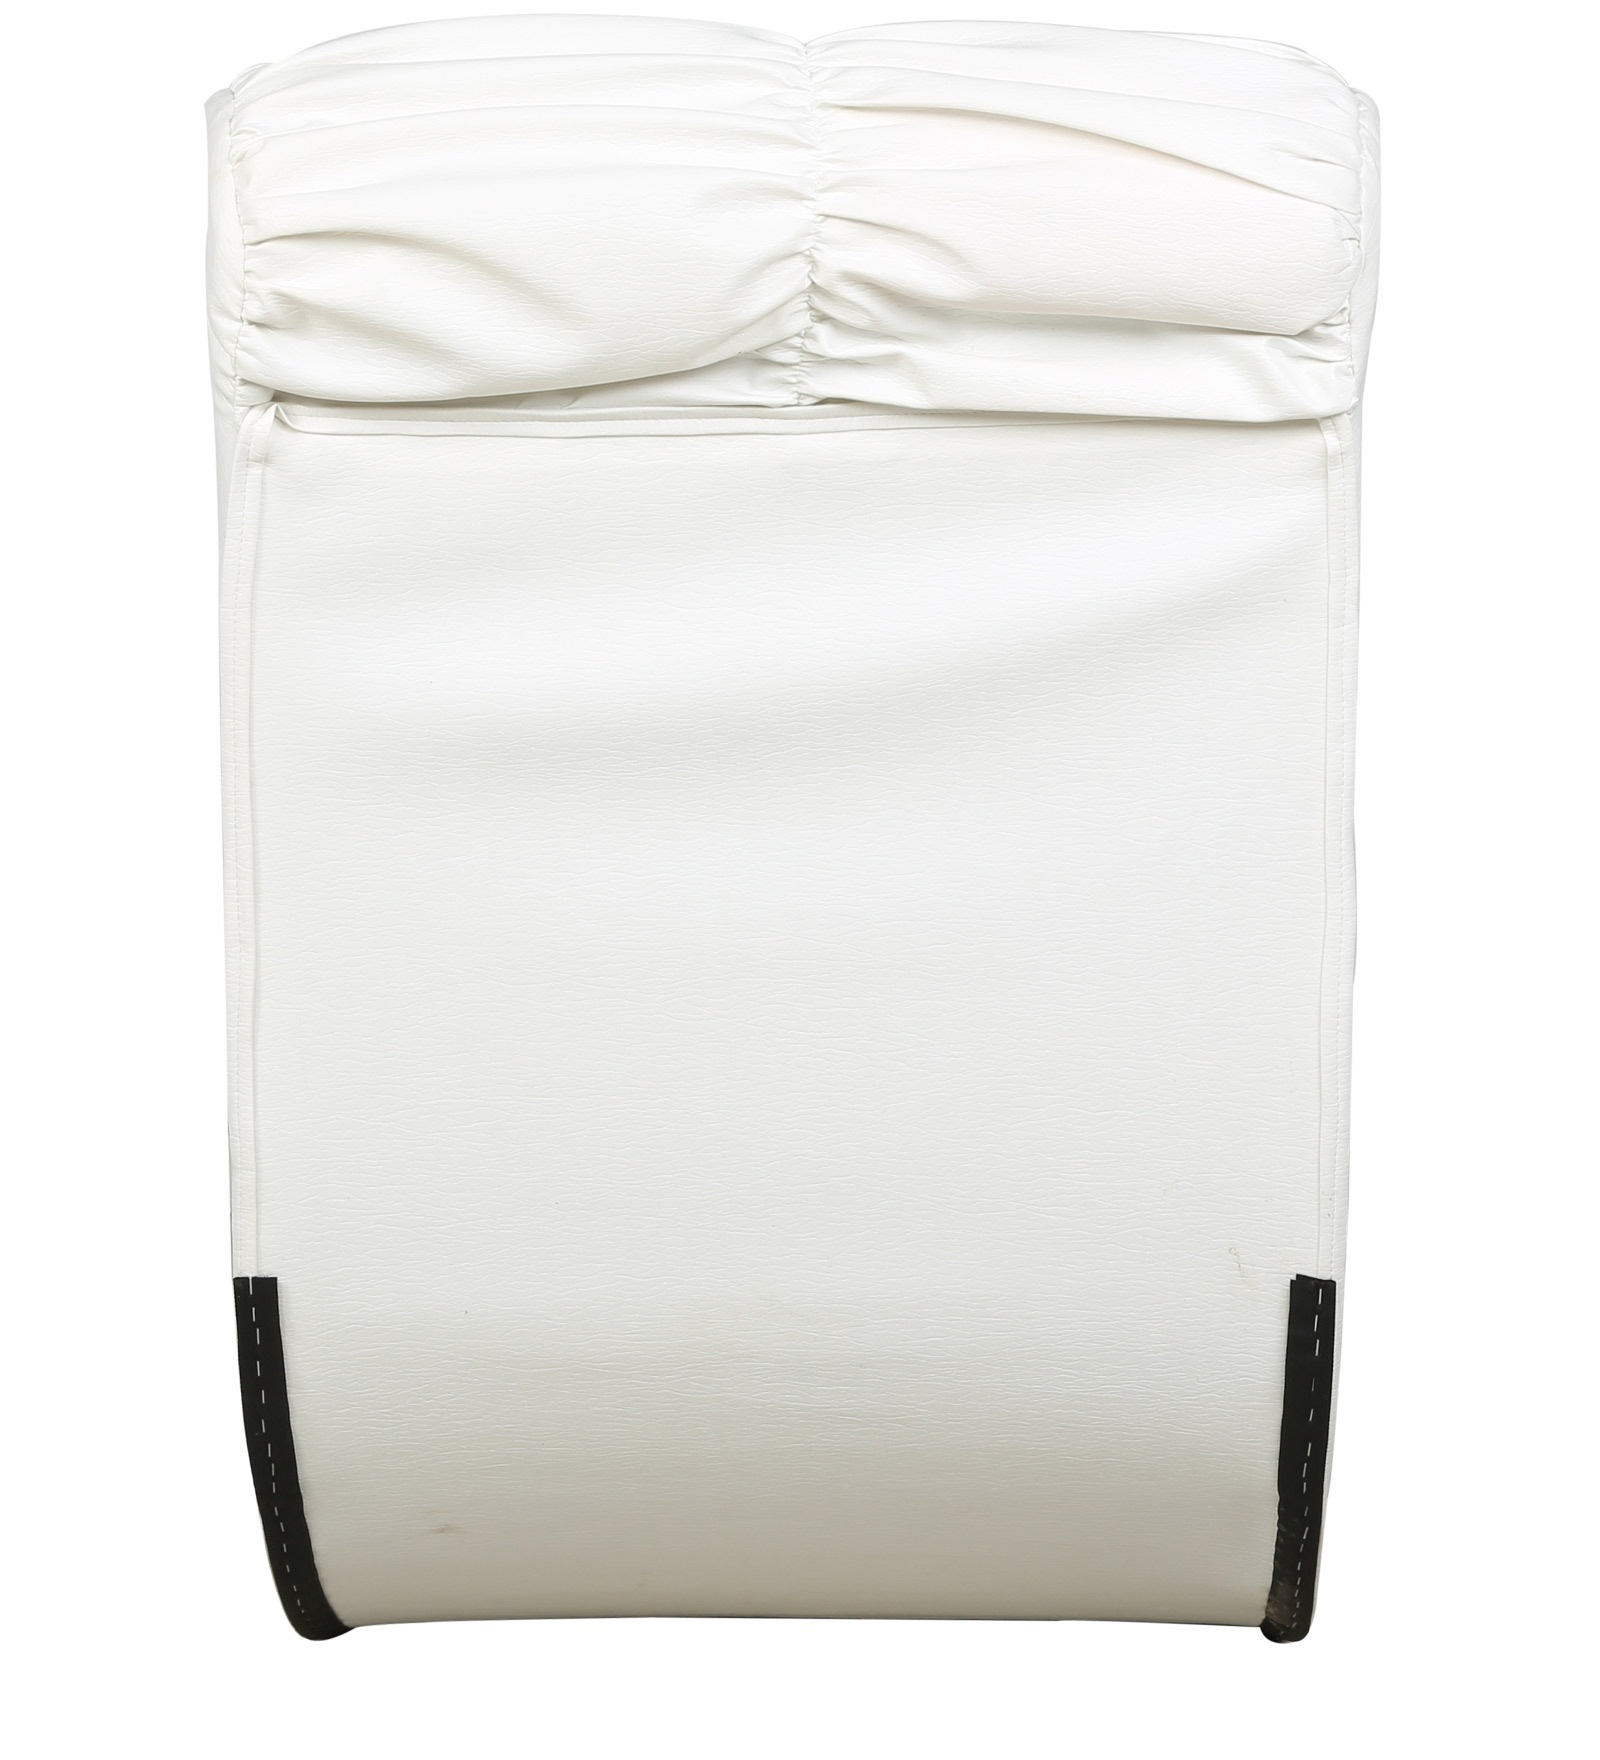Daisy Rocking Chair in White Colour by Parin: (92, 12, 1408, 1709)
